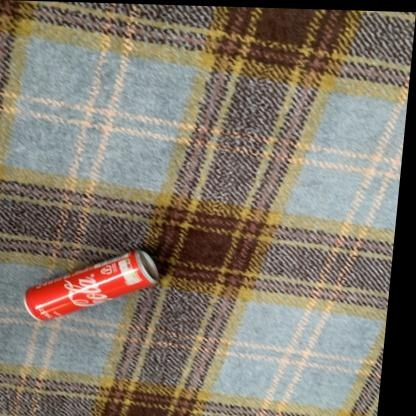trash: (25, 250, 158, 319)
